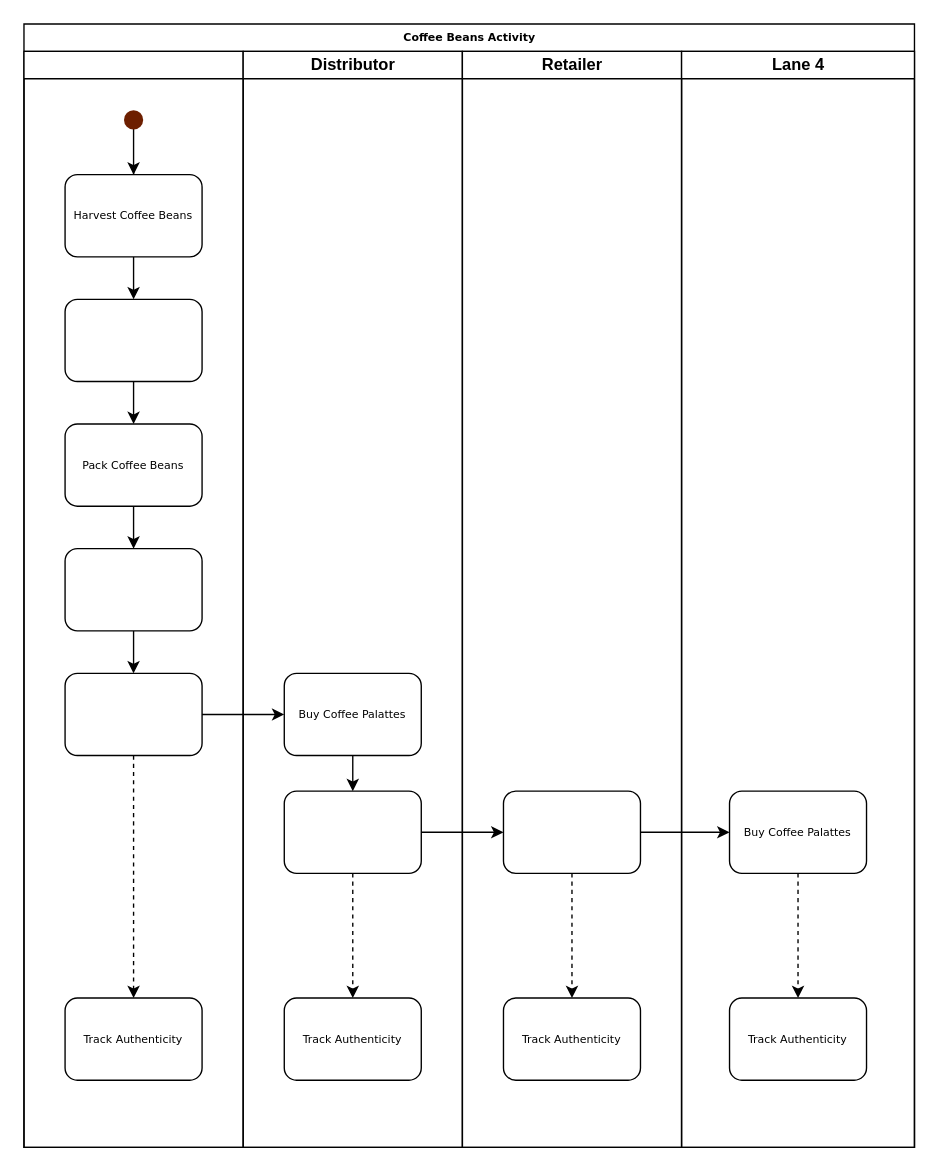
Image size: 938x1171. Some labels were removed from this diagram. The box of each missing label's shape, as (x1, y1, x2, y2) in pixels:
Add Coffee Palettes: (64, 547, 202, 631)
Farmer: (23, 50, 243, 1147)
Process Coffee Beans: (64, 298, 202, 382)
Receive Coffee: (502, 790, 640, 873)
Ship Coffee Palettes: (64, 672, 202, 756)
Ship Items: (283, 790, 421, 873)
